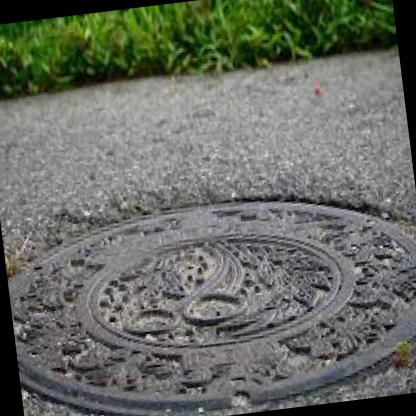manholes: (0, 149, 416, 416)
